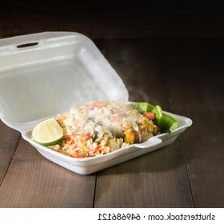foam_box: (0, 24, 199, 180)
